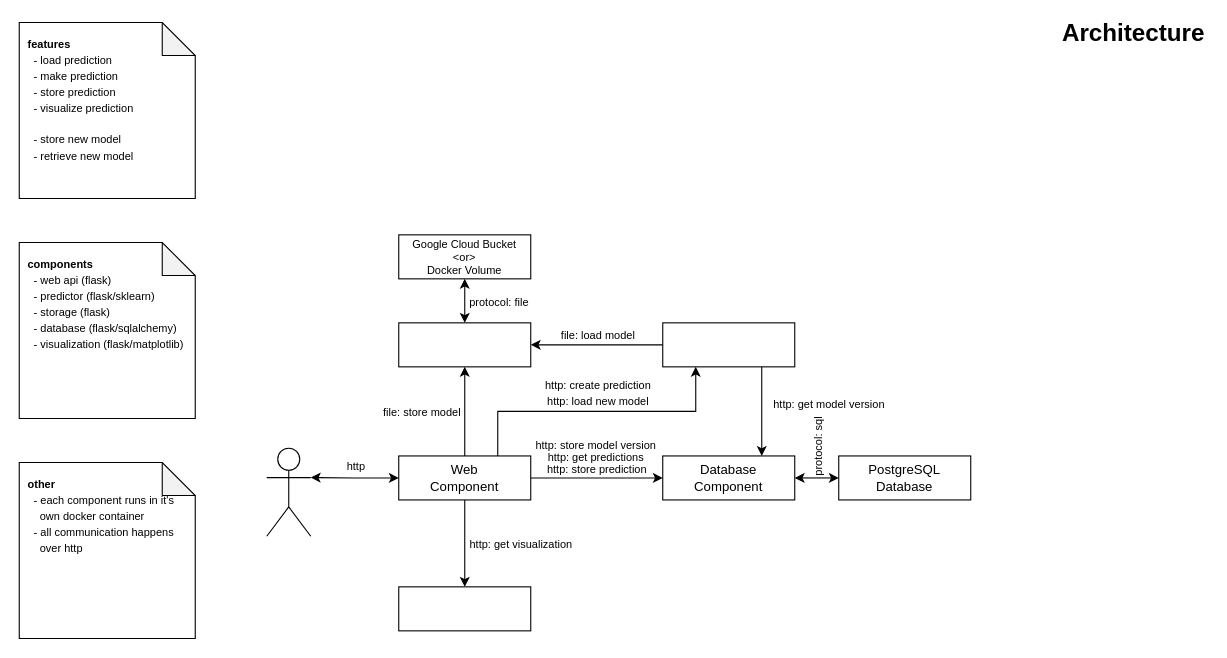
Image size: 1227x658. Some labels were removed from this diagram. Here are the shapes that lost their labels. From the top down, the box of each, then its label:
(398, 322, 531, 367): Storage Component
(662, 322, 795, 367): Prediction Component
(266, 447, 311, 536): User
(398, 586, 531, 631): Visualization Component
